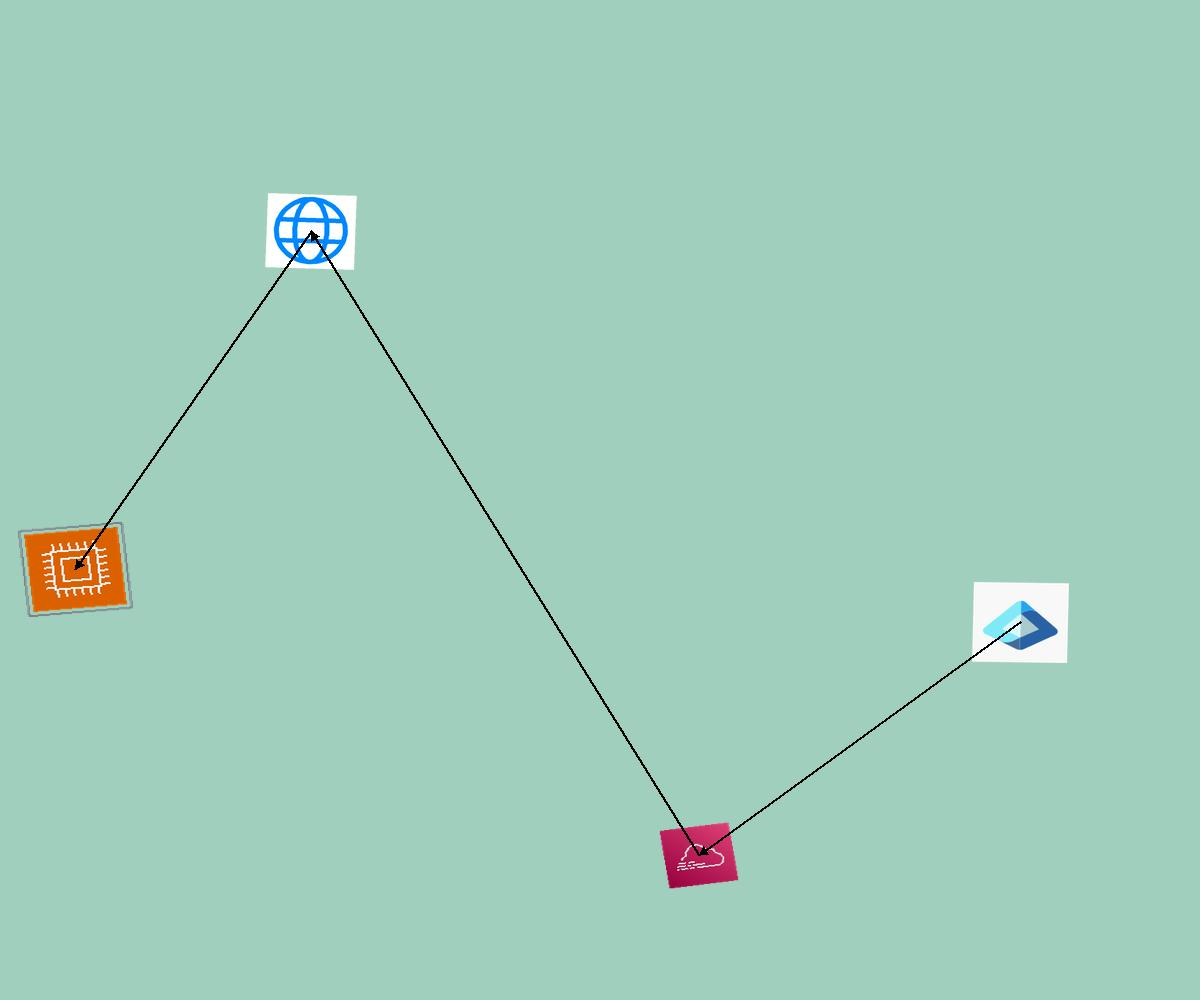AWS-Category_Compute: (17, 521, 134, 618)
AWS-CloudTrail: (659, 822, 739, 889)
Azure_http: (265, 193, 357, 270)
Azure_microsoft_entra: (972, 582, 1069, 663)
